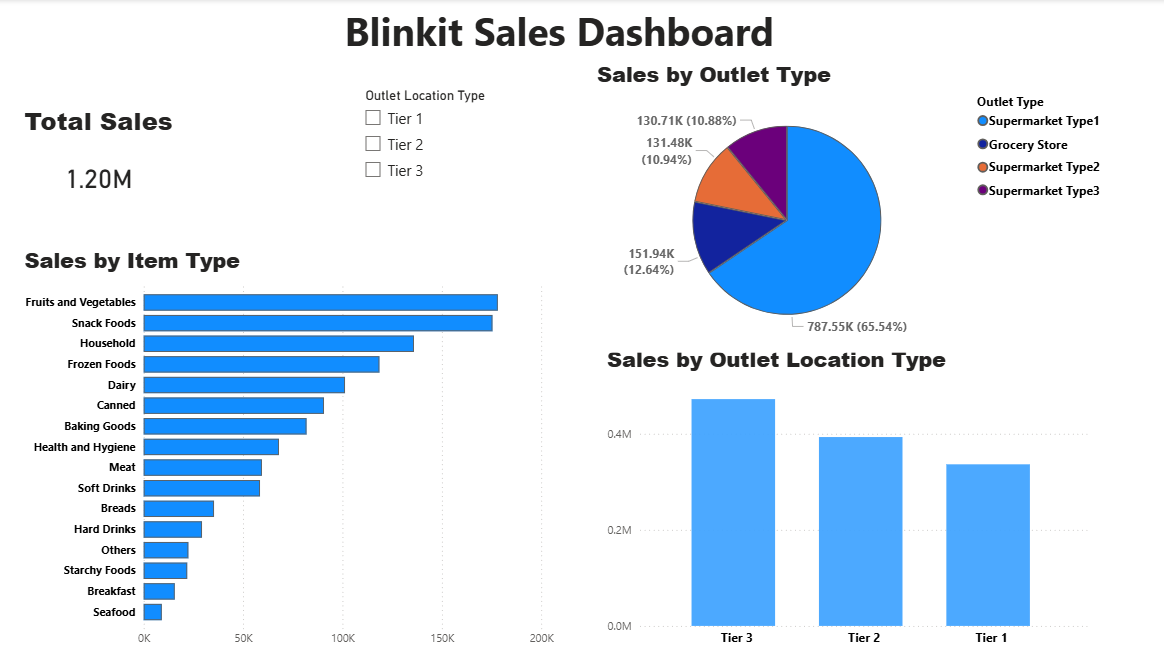

This screenshot's page, from the dashboard's own definition file:
{"tool":"powerbi","page":{"name":"Page 1","canvas":[1280,720],"ordinal":0},"visuals":[{"type":"card","title":"Total Sales","fields":{"Values":["Sum(BlinkIT-Grocery-Data.Sales)"]},"box":[87.8,134.5,172.9,126.2],"z":0},{"type":"clusteredBarChart","title":"Sales by Item Type","fields":{"Category":["BlinkIT-Grocery-Data.Item Type"],"Y":["Sum(BlinkIT-Grocery-Data.Sales)"]},"box":[78.2,284,591.4,436.4],"z":1000},{"type":"textbox","box":[474.8,0,598.3,79.6],"z":2000},{"type":"clusteredColumnChart","title":" Sales by Outlet Location Type","fields":{"Category":["BlinkIT-Grocery-Data.Outlet Location Type"],"Y":["Sum(BlinkIT-Grocery-Data.Sales)"]},"box":[669.6,399.3,492.6,321.1],"z":3000},{"type":"pieChart","title":"Sales by Outlet Type","fields":{"Category":["BlinkIT-Grocery-Data.Outlet Type"],"Y":["Sum(BlinkIT-Grocery-Data.Sales)"]},"box":[669.6,76.8,572.2,322.5],"z":4000},{"type":"slicer","fields":{"Values":["BlinkIT-Grocery-Data.Outlet Location Type"]},"box":[440.5,102.9,199,135.8],"z":5000}]}

Visuals, with their boxes in screenshot pixels (x1, y1, x2, y2), scaled from the page's 1280x720 canvas onto the 1164x654 screenshot:
"Total Sales" card: BBox(80, 122, 237, 237)
"Sales by Item Type" clusteredBarChart: BBox(71, 258, 609, 653)
textbox: BBox(432, 0, 976, 72)
" Sales by Outlet Location Type" clusteredColumnChart: BBox(609, 363, 1057, 653)
"Sales by Outlet Type" pieChart: BBox(609, 70, 1129, 363)
slicer - BlinkIT-Grocery-Data.Outlet Location Type: BBox(401, 93, 582, 217)
